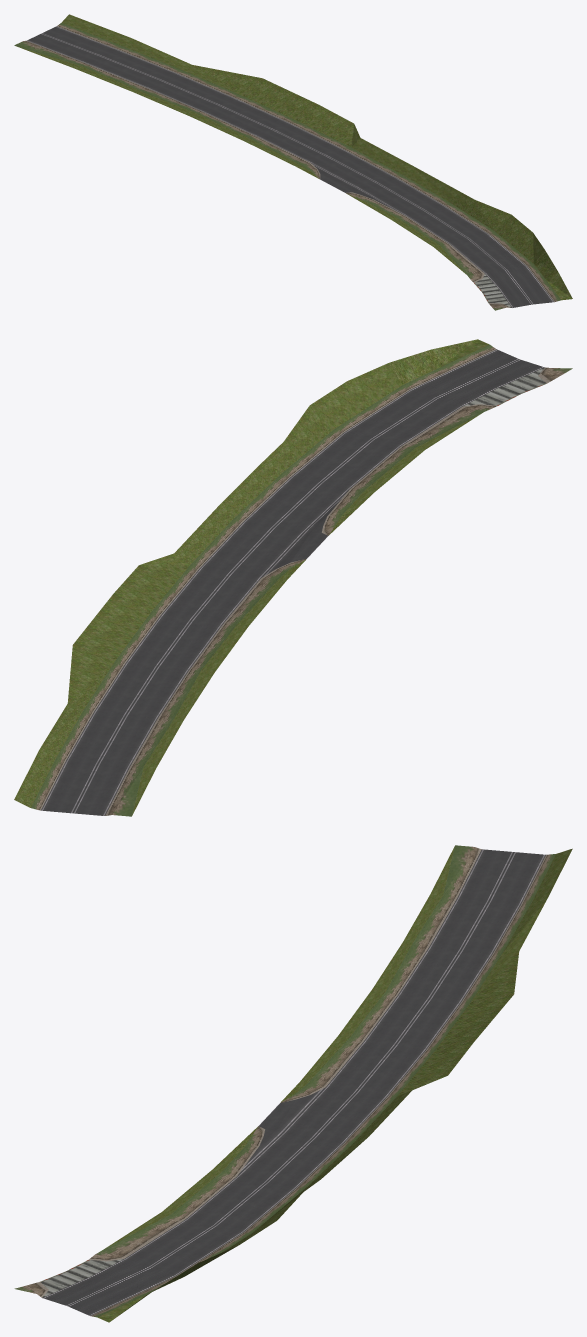
Rendered from cunte_roads61.obj.
3 views of the same model, one above another, from view 1: azimuth 30°, elevation 25°; view 2: azimuth 150°, elevation 25°; view 3: azimuth 330°, elevation 25° (orthographic). The views are drawn at different scales.
Visible parts, largest first — view 1: cunte_roads61; view 2: cunte_roads61; view 3: cunte_roads61.
Part boxes in pixels (x1,y1,x2,y2): cunte_roads61: (14,14,572,310); cunte_roads61: (14,339,572,816); cunte_roads61: (14,845,572,1322).
Size of the model in its own units: 56.98 by 4 by 218.
